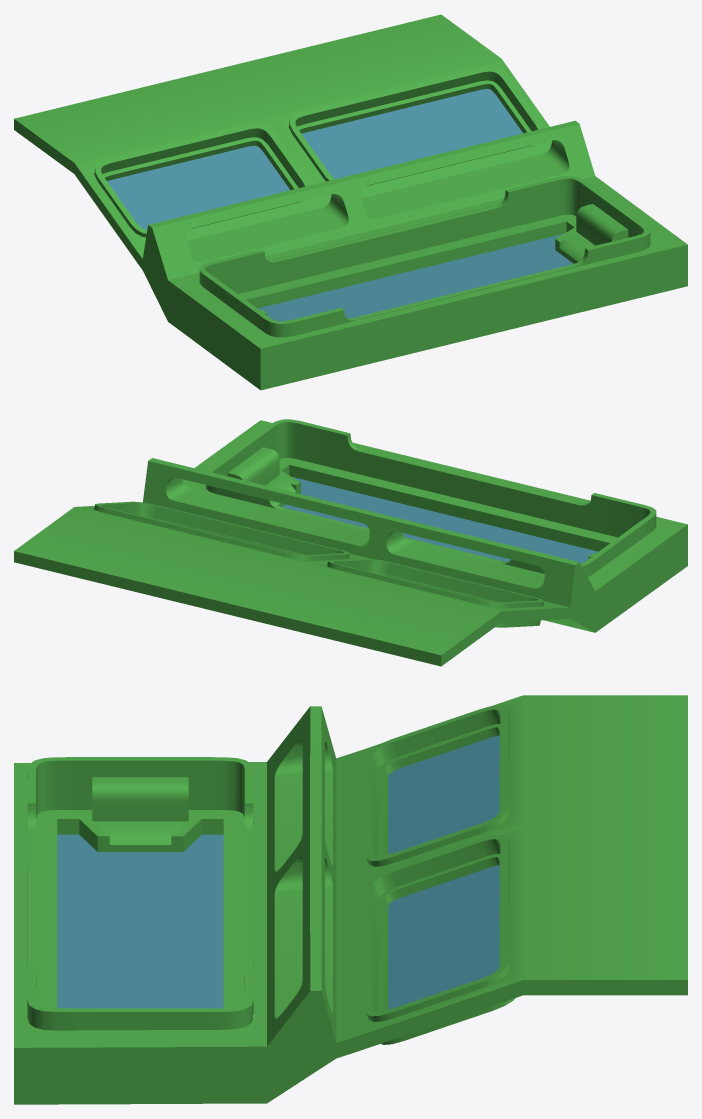
The model's file is Ceiling_Win_A.FBX.
3 renders of one model, top to bottom at view 1: azimuth 30°, elevation 25°; view 2: azimuth 150°, elevation 25°; view 3: azimuth 270°, elevation 25°, orthographic. The views are drawn at different scales.
Visible parts, largest first — view 1: Ceiling_Win_A, Ceiling_Win_A_Glass; view 2: Ceiling_Win_A, Ceiling_Win_A_Glass; view 3: Ceiling_Win_A, Ceiling_Win_A_Glass.
Boxes of the visible parts, bbox=[...] form: Ceiling_Win_A: bbox=[14, 14, 687, 390]; Ceiling_Win_A_Glass: bbox=[107, 89, 573, 321]; Ceiling_Win_A: bbox=[14, 419, 687, 666]; Ceiling_Win_A_Glass: bbox=[282, 477, 598, 563]; Ceiling_Win_A: bbox=[14, 695, 687, 1104]; Ceiling_Win_A_Glass: bbox=[57, 735, 499, 1009].
Size of the model in its own units: 400 by 82.44 by 400.
